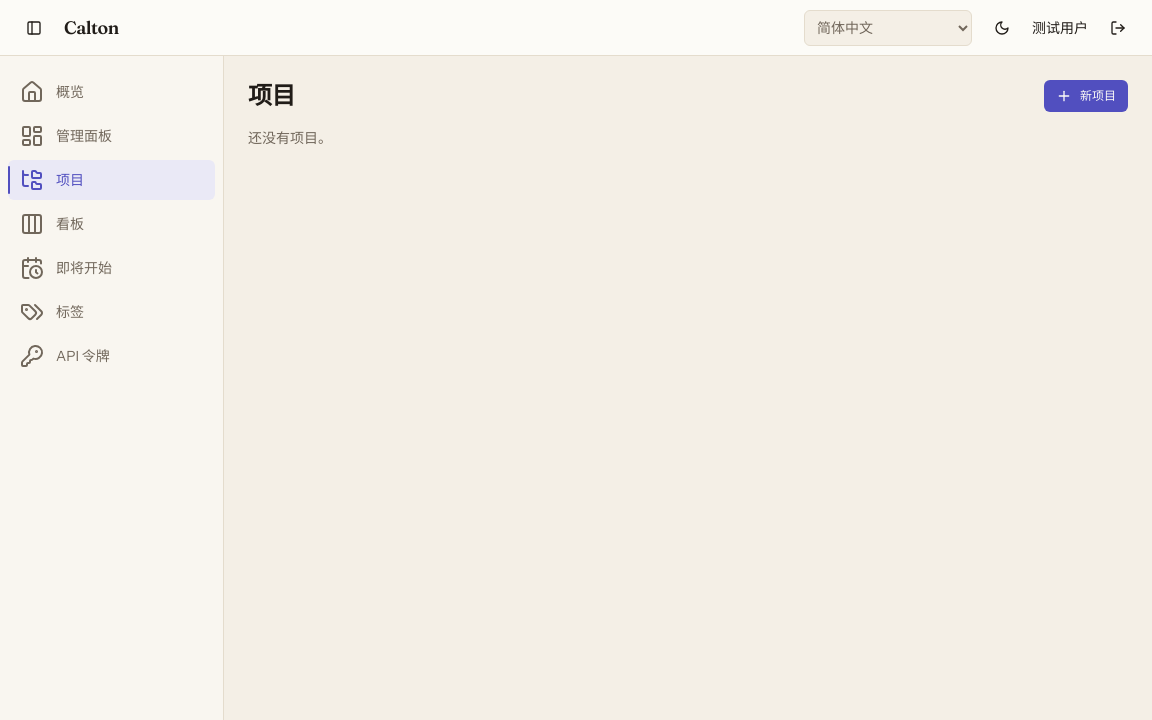
Test: 新建项目 › PUT /projects 建项目（v1 里 PUT 才是新建），成功后关闭弹窗并刷新列表
This screenshot has width=1152, height=720.
Click the button with test id "new-project" at [1086, 96], box 1044,80 -> 1128,112
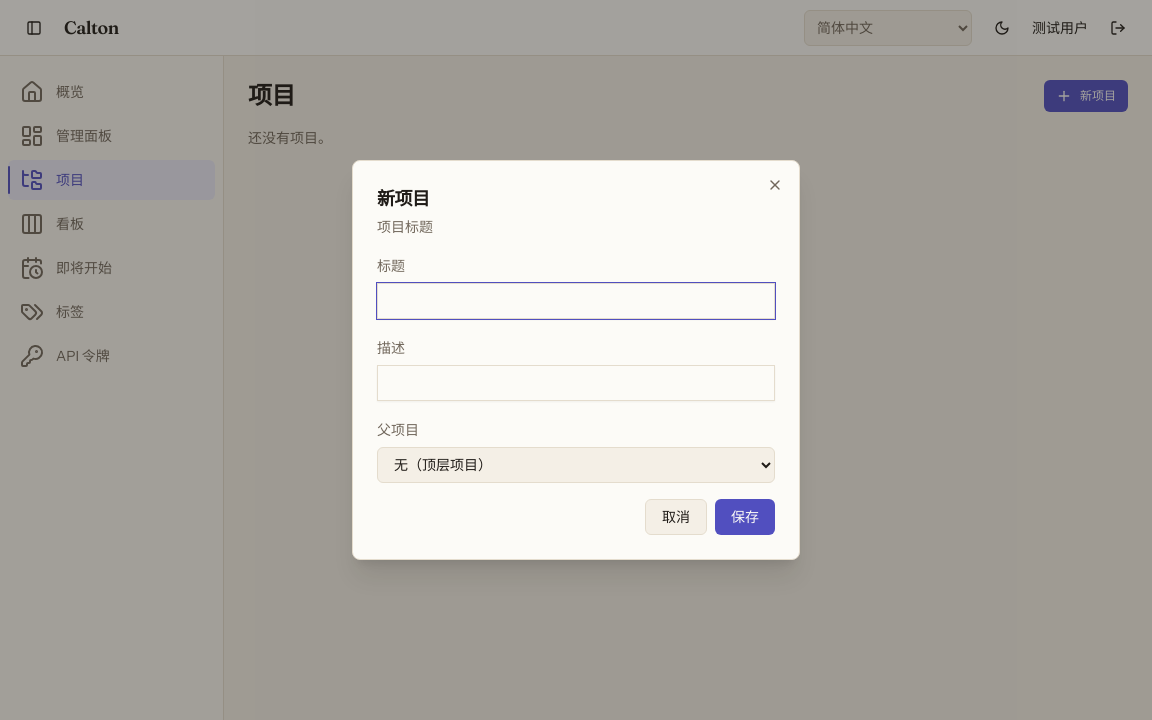
Type "新项目" into the field with test id "project-title-input" at [576, 301], box 377,283 -> 775,319
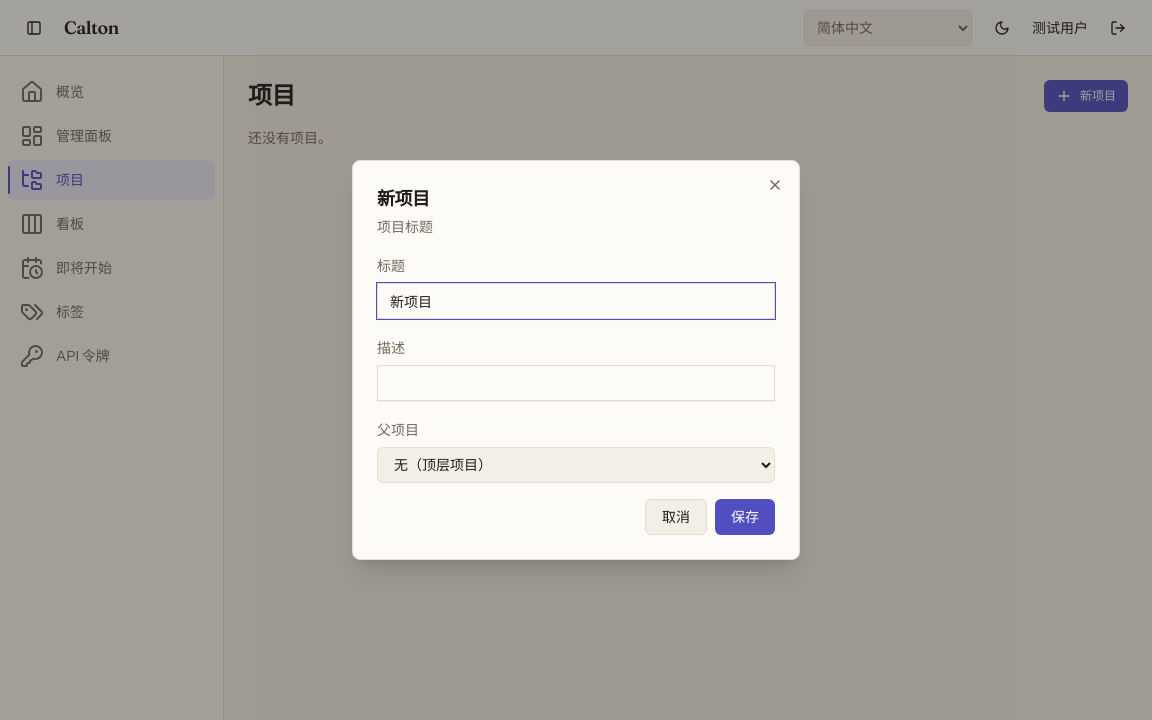
Click the button with test id "project-form-submit" at [745, 517], box 715,499 -> 775,535
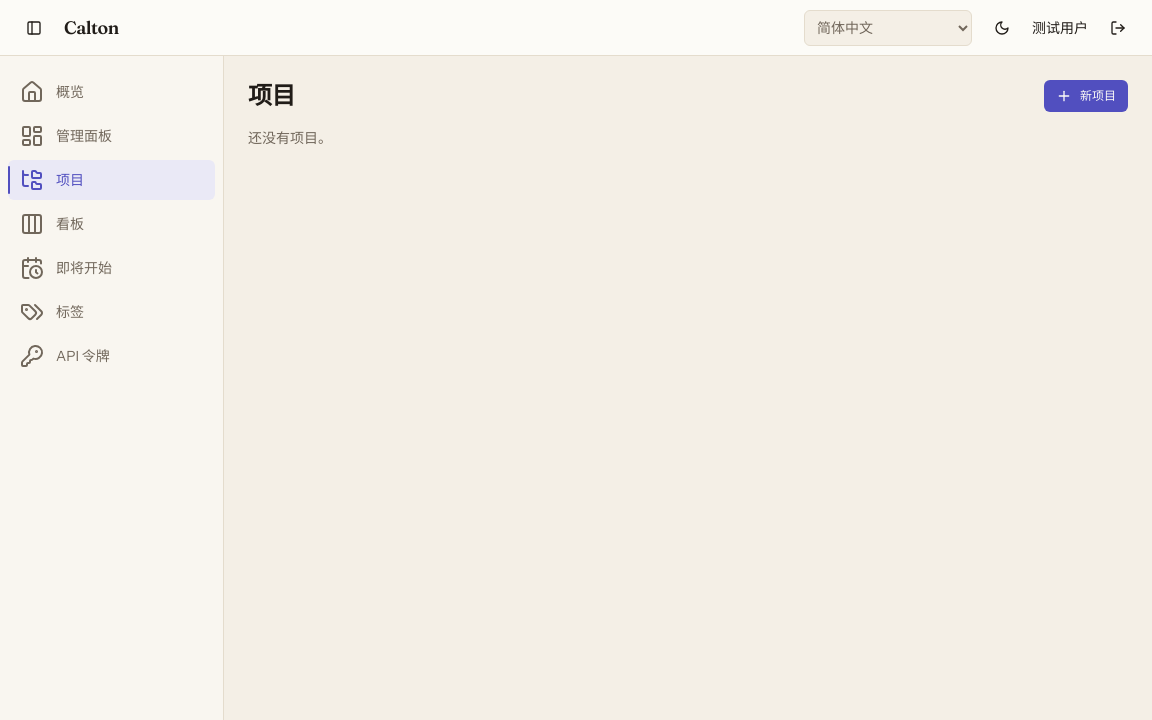
Check: the dialog is gone
